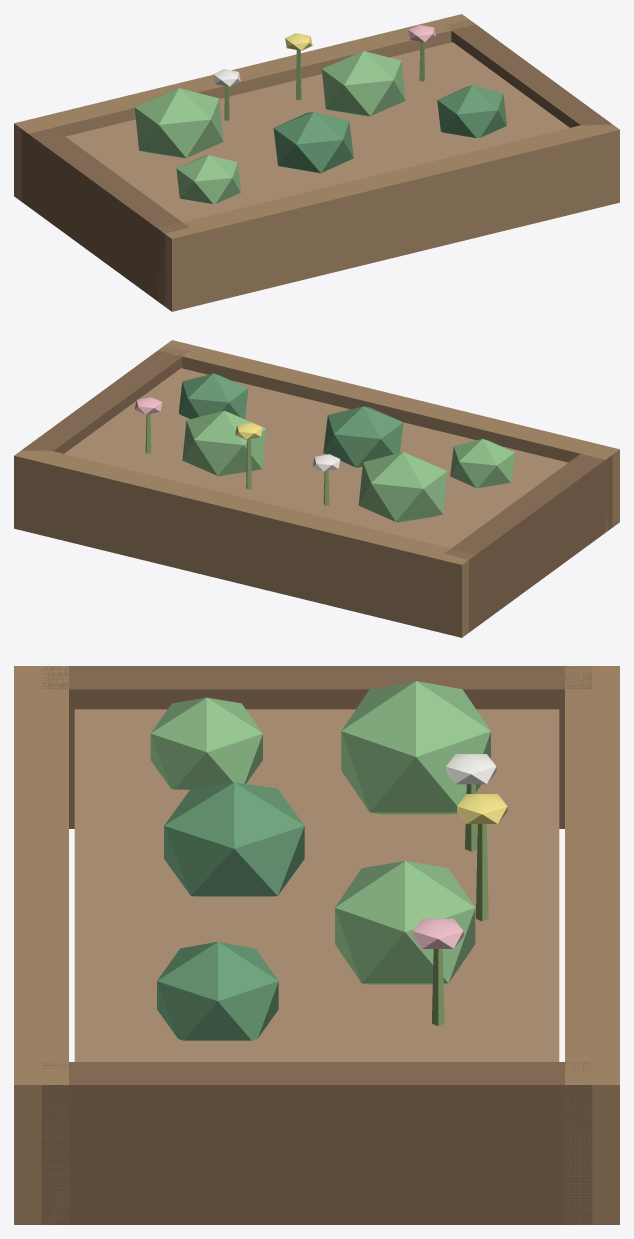
Rendered from village_garden_bed.glb.
3 views of the same model, one above another, from view 1: azimuth 30°, elevation 25°; view 2: azimuth 150°, elevation 25°; view 3: azimuth 270°, elevation 25° (orthographic). The views are drawn at different scales.
Visible parts, largest first — view 1: village_garden_bed; view 2: village_garden_bed; view 3: village_garden_bed.
Boxes of the visible parts, x1=… form: village_garden_bed: x1=14, y1=14, x2=619, y2=311; village_garden_bed: x1=14, y1=340, x2=619, y2=637; village_garden_bed: x1=14, y1=666, x2=619, y2=1224.
Bounding box in the file's own units: 1.8 × 0.487 × 1.1.
